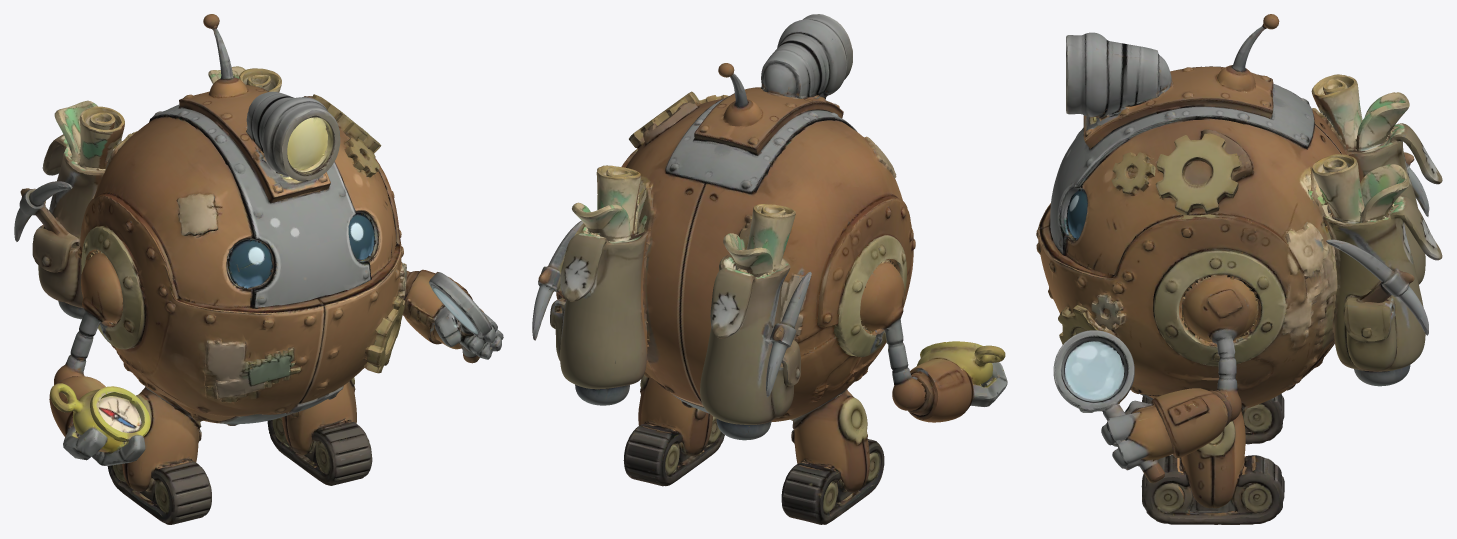
Rendered from wayfinder.glb.
The picture shows the model from 3 angles, left to right: view 1: azimuth 30°, elevation 25°; view 2: azimuth 150°, elevation 25°; view 3: azimuth 270°, elevation 25°; orthographic projection. The views are drawn at different scales.
Visible parts, largest first — view 1: output; view 2: output; view 3: output.
Part boxes in pixels (box(x1,y1,x2,y2)): output: box(14, 14, 503, 524); output: box(532, 14, 1007, 524); output: box(1036, 14, 1442, 524).
Size of the model in its own units: 1.91 by 1.86 by 1.48.
Materials: 1 (1 with a texture image).
